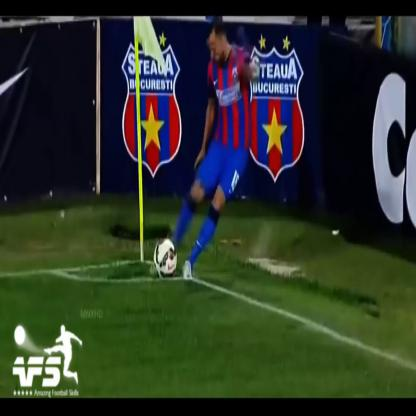corner kick: (116, 12, 254, 297)
